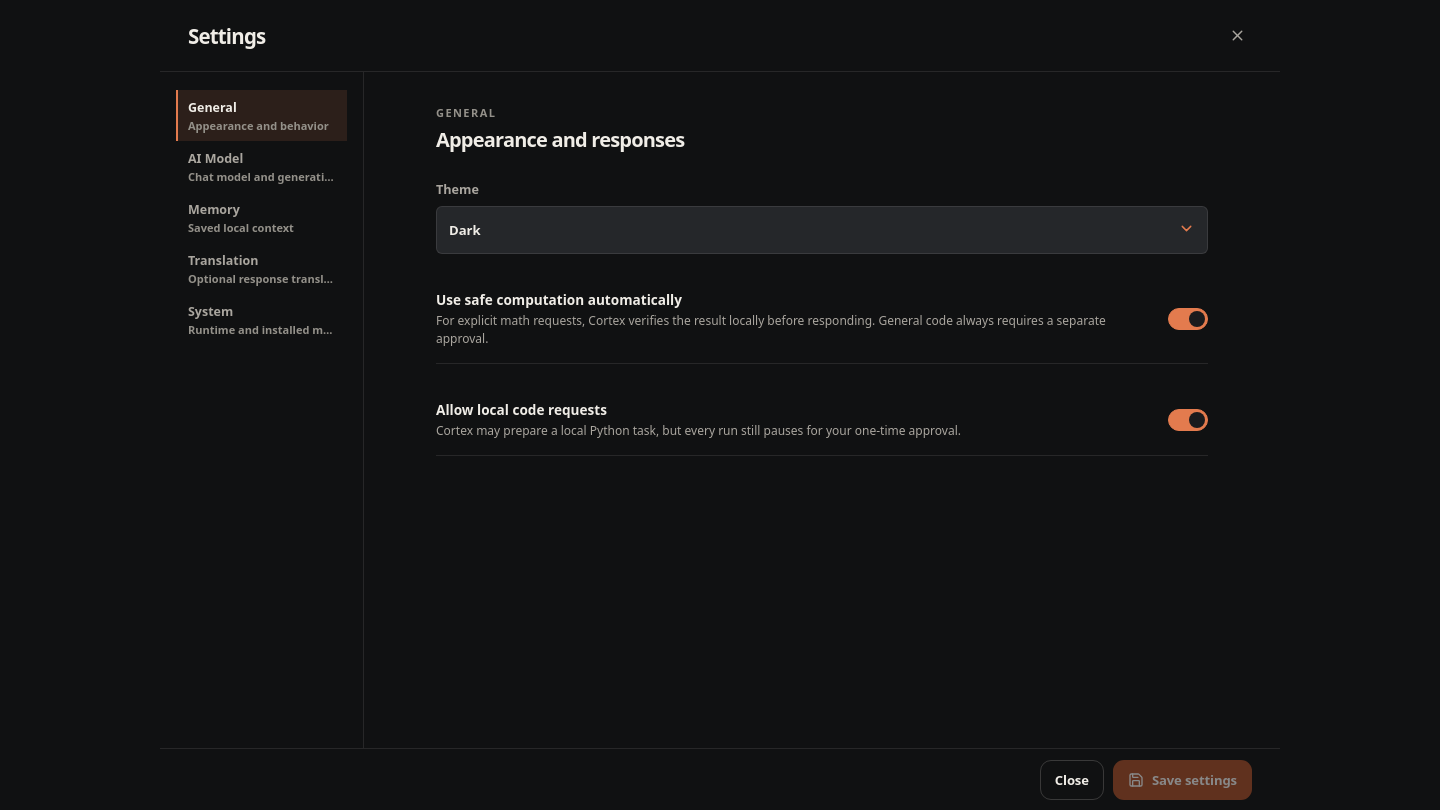
Test: SettingsPanel unsaved changes › is clean again when an edit is put back
Click the dropdown named "Theme": (465, 230) [436,206,1208,254]
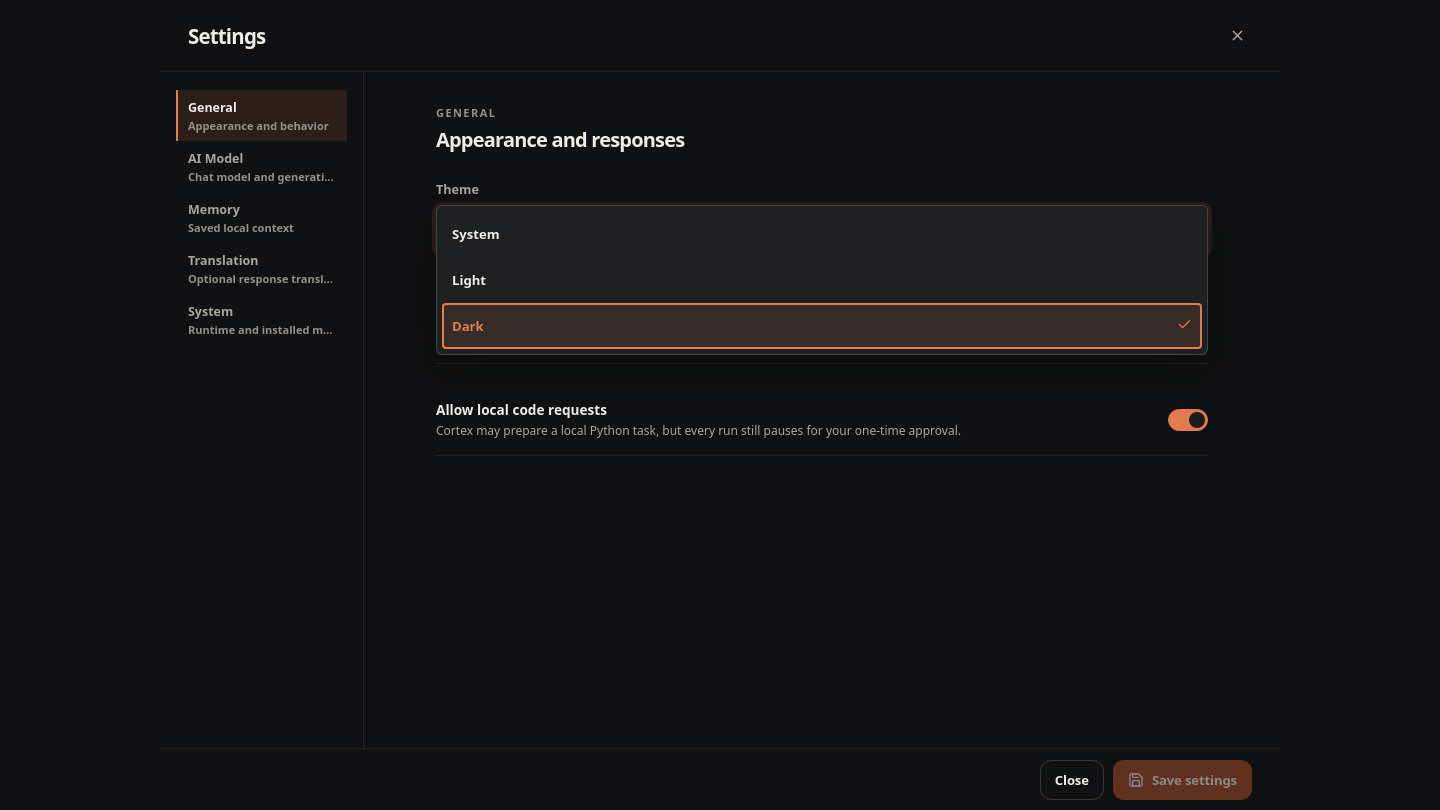
Click the option "Light": (469, 280) [452,271,486,289]
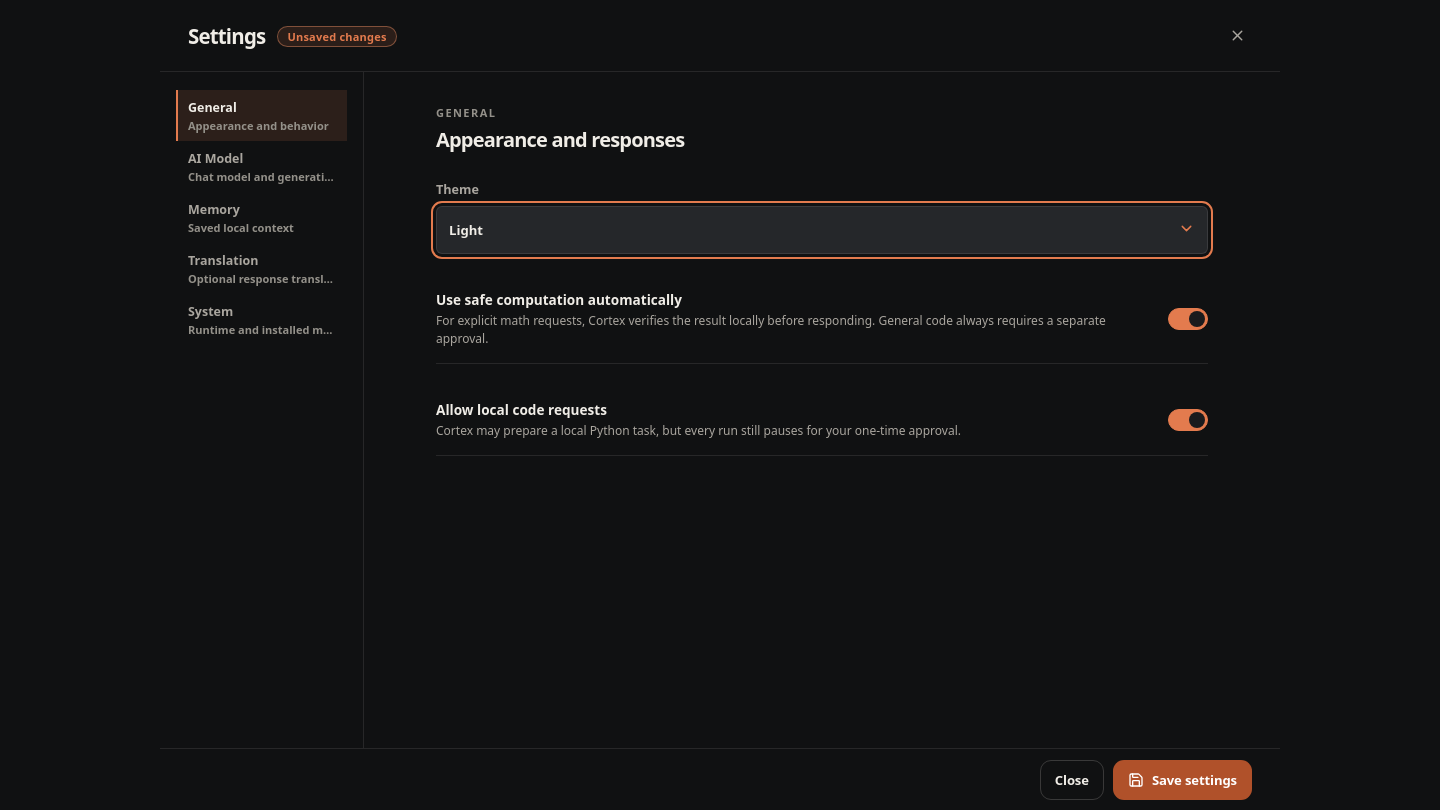
Click the dropdown named "Theme": (466, 230) [436,206,1208,254]
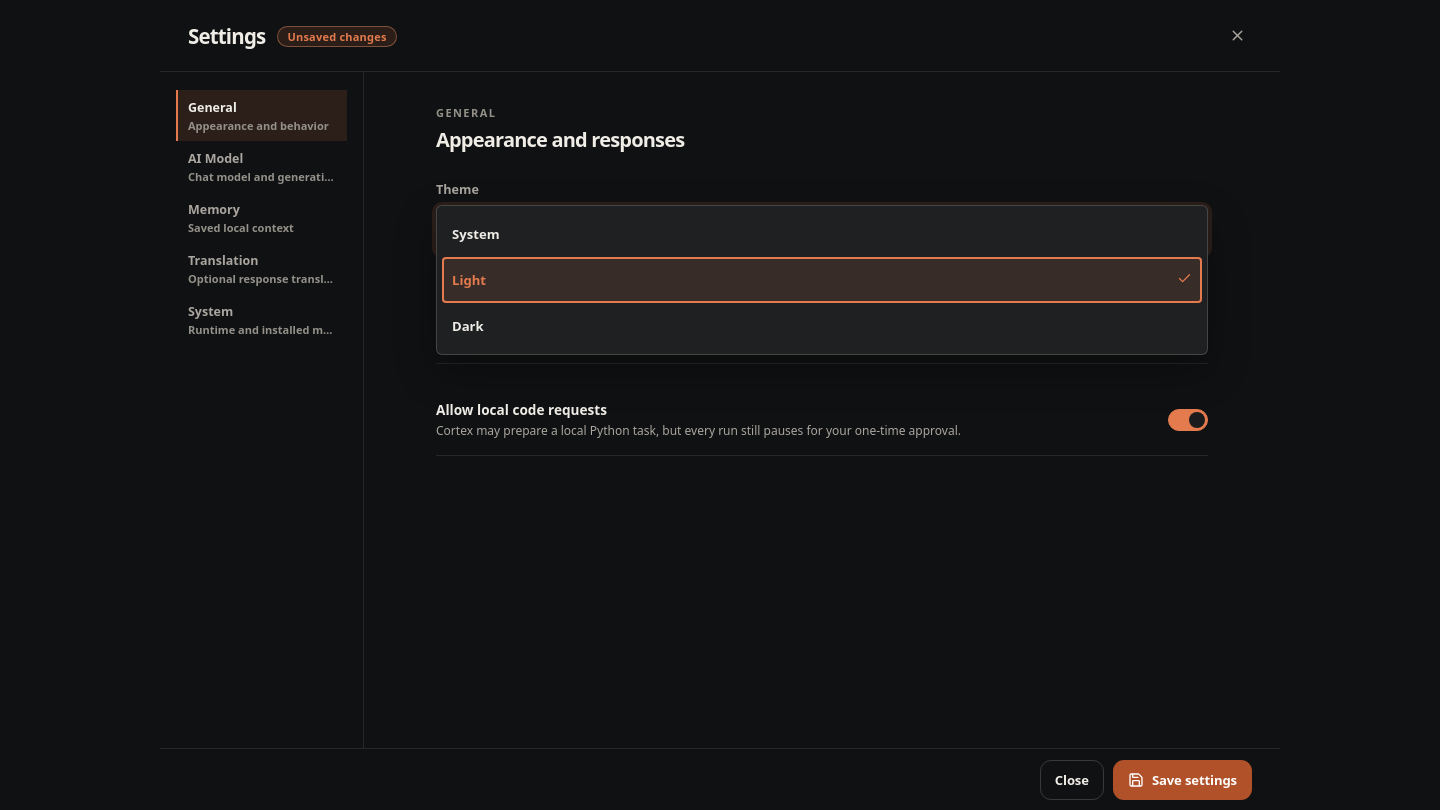
Click the option "Dark": (468, 326) [452,317,484,335]
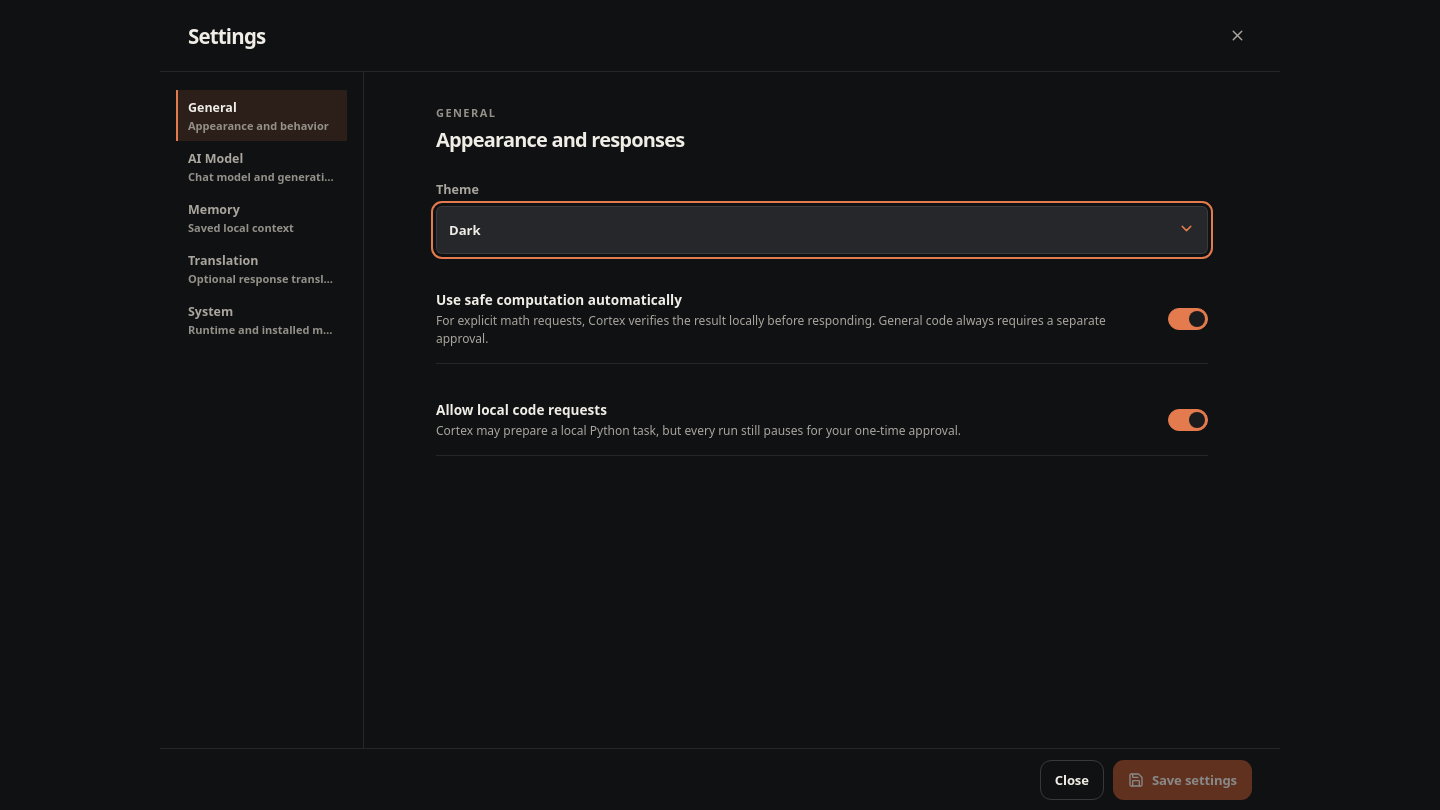
Now the button "Save settings" is disabled, box [1113,760,1252,800]
Now the text "Unsaved changes" is gone
